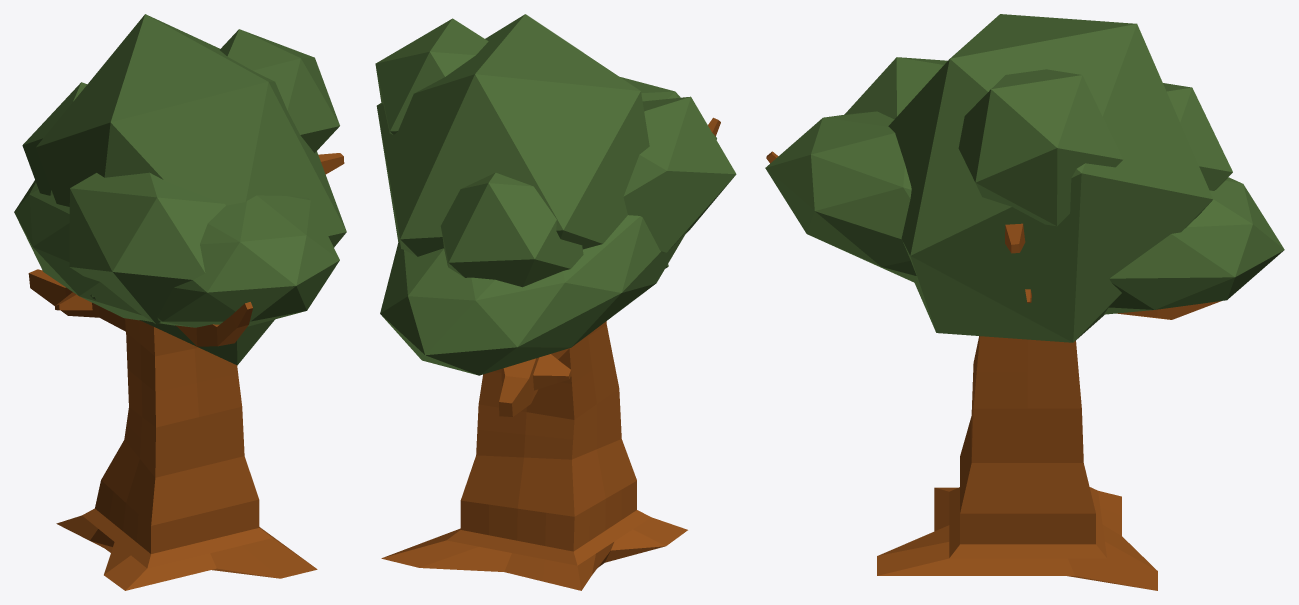
The model's file is Tree1.fbx.
The picture shows the model from 3 angles, left to right: view 1: azimuth 30°, elevation 25°; view 2: azimuth 150°, elevation 25°; view 3: azimuth 270°, elevation 25°; orthographic projection. The views are drawn at different scales.
Parts seen in each view (by area): view 1: Tree1; view 2: Tree1; view 3: Tree1.
Boxes of the visible parts, bbox=[...] form: Tree1: bbox=[14, 14, 346, 590]; Tree1: bbox=[375, 14, 736, 590]; Tree1: bbox=[765, 14, 1284, 590].
Size of the model in its own units: 617 by 1018 by 898.
